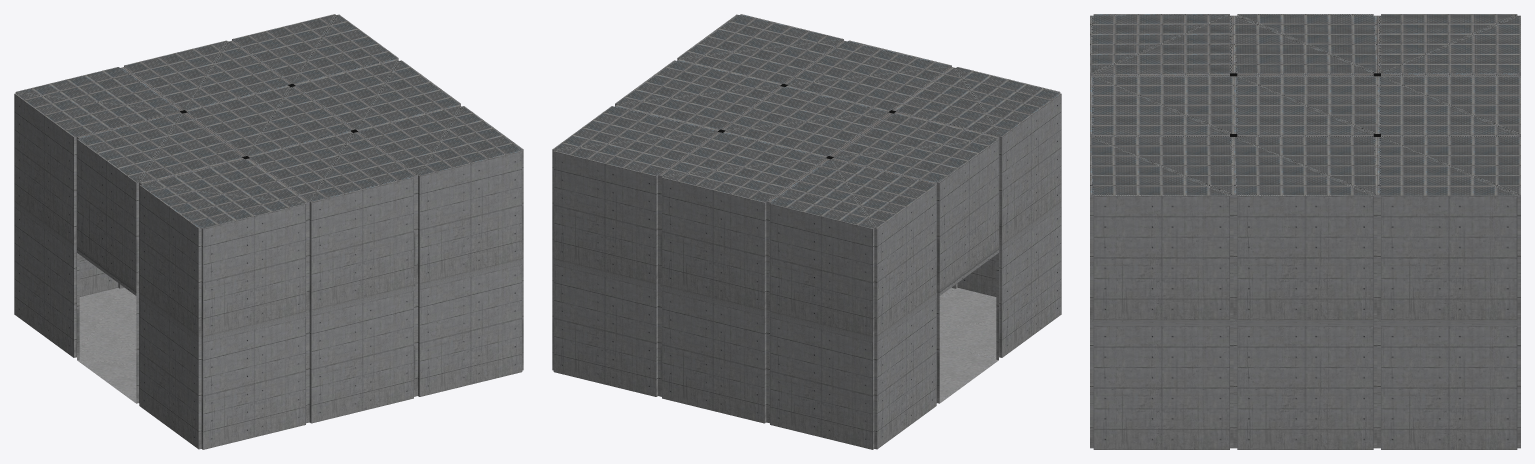
Rendered from ContainmentUnit.fbx.
3 views of the same model, side by side, from view 1: azimuth 30°, elevation 25°; view 2: azimuth 150°, elevation 25°; view 3: azimuth 270°, elevation 25° (orthographic). The views are drawn at different scales.
Parts seen in each view (by area): view 1: Room; view 2: Room; view 3: Room.
Part boxes in pixels (x1,y1,x2,y2): Room: (14, 14, 523, 449); Room: (552, 14, 1061, 449); Room: (1090, 14, 1520, 449).
Bounding box in the file's own units: 600 × 390 × 600.
